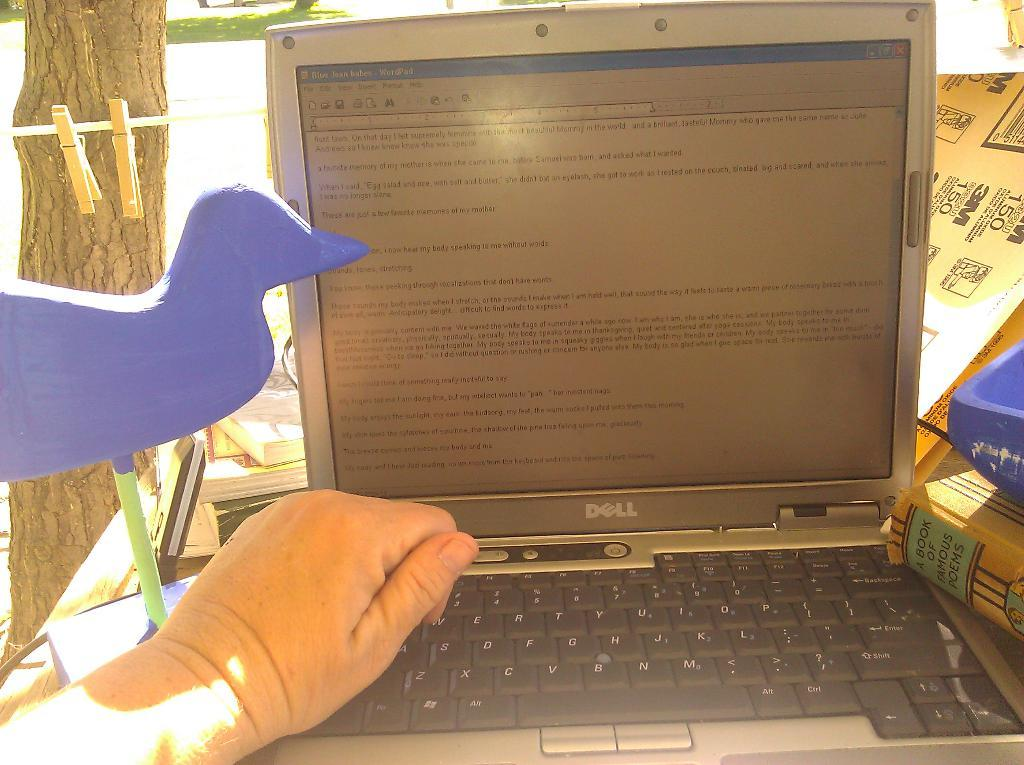Computer-keyboard: (298, 539, 1023, 737)
